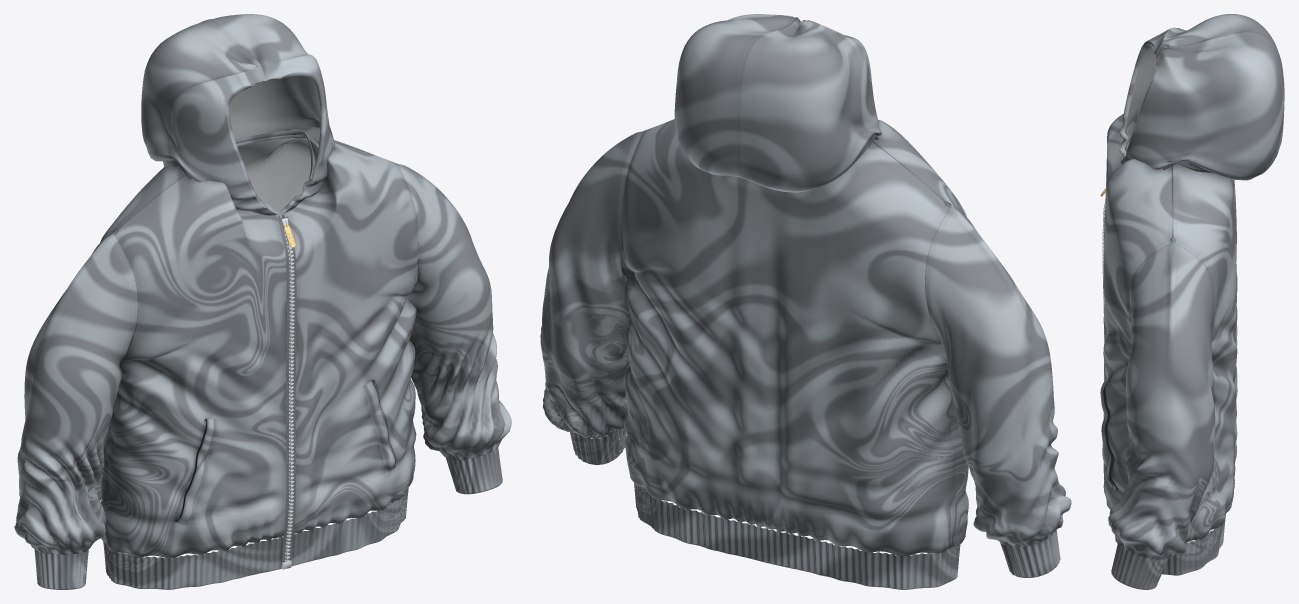
Rendered from ressac-v3-silver-drift.glb.
The picture shows the model from 3 angles, left to right: view 1: azimuth 30°, elevation 25°; view 2: azimuth 150°, elevation 25°; view 3: azimuth 270°, elevation 25°; orthographic projection. The views are drawn at different scales.
Parts seen in each view (by area): view 1: Panel_Right, Panel_Left, Sleeve_Right, Hood_Outer, Sleeve_Left, Hem, Body_Back, Hood_Inner, Zip_Teeth_Right, Zip_Teeth_Left, Cuff_Right, Cuff_Left (+2 smaller); view 2: Body_Back, Hood_Outer, Sleeve_Right, Sleeve_Left, Hem, Panel_Right, Cuff_Right, Cuff_Left; view 3: Sleeve_Left, Hood_Outer, Body_Back, Panel_Left, Cuff_Left, Hem, Hood_Inner, Panel_Right, Pocket_Left.
Boxes of the visible parts, x1=… form: Panel_Right: x1=105, y1=175, x2=286, y2=558; Panel_Left: x1=282, y1=138, x2=418, y2=533; Sleeve_Right: x1=14, y1=233, x2=138, y2=554; Hood_Outer: x1=141, y1=14, x2=335, y2=215; Sleeve_Left: x1=398, y1=164, x2=511, y2=460; Hem: x1=103, y1=487, x2=408, y2=589; Body_Back: x1=100, y1=128, x2=398, y2=543; Hood_Inner: x1=229, y1=76, x2=320, y2=203; Zip_Teeth_Right: x1=278, y1=217, x2=293, y2=569; Zip_Teeth_Left: x1=283, y1=216, x2=296, y2=567; Cuff_Right: x1=34, y1=549, x2=88, y2=589; Cuff_Left: x1=446, y1=447, x2=502, y2=494; Body_Back: x1=622, y1=119, x2=960, y2=555; Hood_Outer: x1=674, y1=14, x2=881, y2=192; Sleeve_Right: x1=925, y1=206, x2=1071, y2=546; Sleeve_Left: x1=540, y1=131, x2=642, y2=438; Hem: x1=634, y1=483, x2=960, y2=589; Panel_Right: x1=872, y1=120, x2=968, y2=545; Cuff_Right: x1=1000, y1=530, x2=1060, y2=577; Cuff_Left: x1=570, y1=425, x2=625, y2=464; Sleeve_Left: x1=1108, y1=242, x2=1215, y2=559; Hood_Outer: x1=1119, y1=14, x2=1284, y2=180; Body_Back: x1=1170, y1=164, x2=1237, y2=543; Panel_Left: x1=1102, y1=158, x2=1175, y2=509; Cuff_Left: x1=1111, y1=542, x2=1168, y2=589; Hem: x1=1115, y1=513, x2=1225, y2=575; Hood_Inner: x1=1124, y1=45, x2=1187, y2=164; Panel_Right: x1=1105, y1=107, x2=1140, y2=200; Pocket_Left: x1=1100, y1=381, x2=1117, y2=489.
Size of the model in its own units: 0.8831 by 0.8705 by 0.3057.
Materials: 7 (1 with a texture image).
